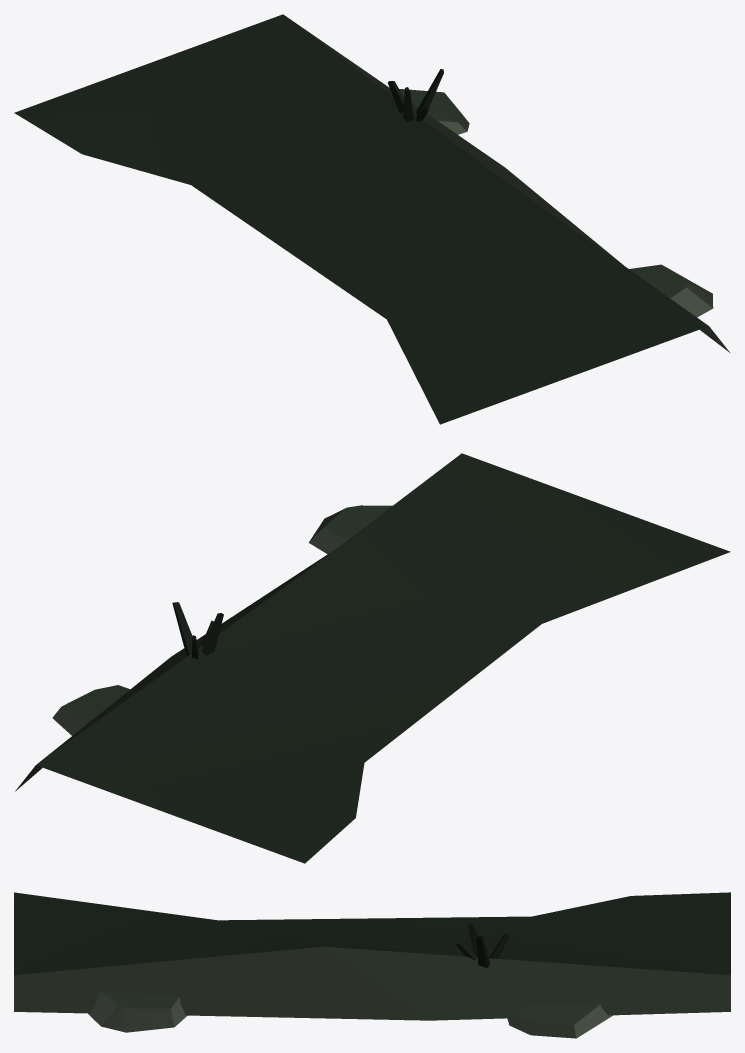
Rendered from SF_Env_GrassEdge_Straight_01.glb.
3 views of the same model, one above another, from view 1: azimuth 30°, elevation 25°; view 2: azimuth 150°, elevation 25°; view 3: azimuth 270°, elevation 25° (orthographic). The views are drawn at different scales.
Parts seen in each view (by area): view 1: SF_Env_GrassEdge_Straight_01; view 2: SF_Env_GrassEdge_Straight_01; view 3: SF_Env_GrassEdge_Straight_01.
Part boxes in pixels (box(x1,y1,x2,y2)): SF_Env_GrassEdge_Straight_01: box(14, 14, 729, 424); SF_Env_GrassEdge_Straight_01: box(15, 453, 730, 863); SF_Env_GrassEdge_Straight_01: box(14, 892, 730, 1038).
Size of the model in its own units: 0.0934 by 0.0232 by 0.2.
1 material, 1 textured.
